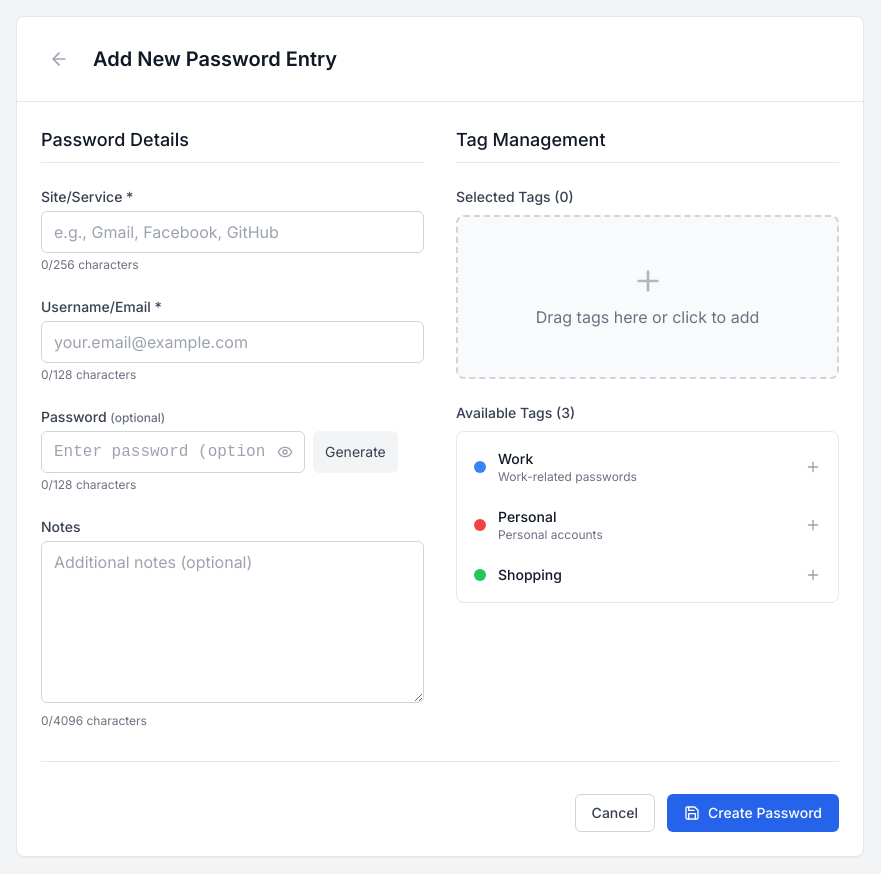
PasswordEdit Component › should generate password when generate button is clicked
Expected: the password field labelled "Password (optional)" is empty, [41,431,305,473]
Click the button "Generate". click: point(355, 452)
box: [313,431,398,473]
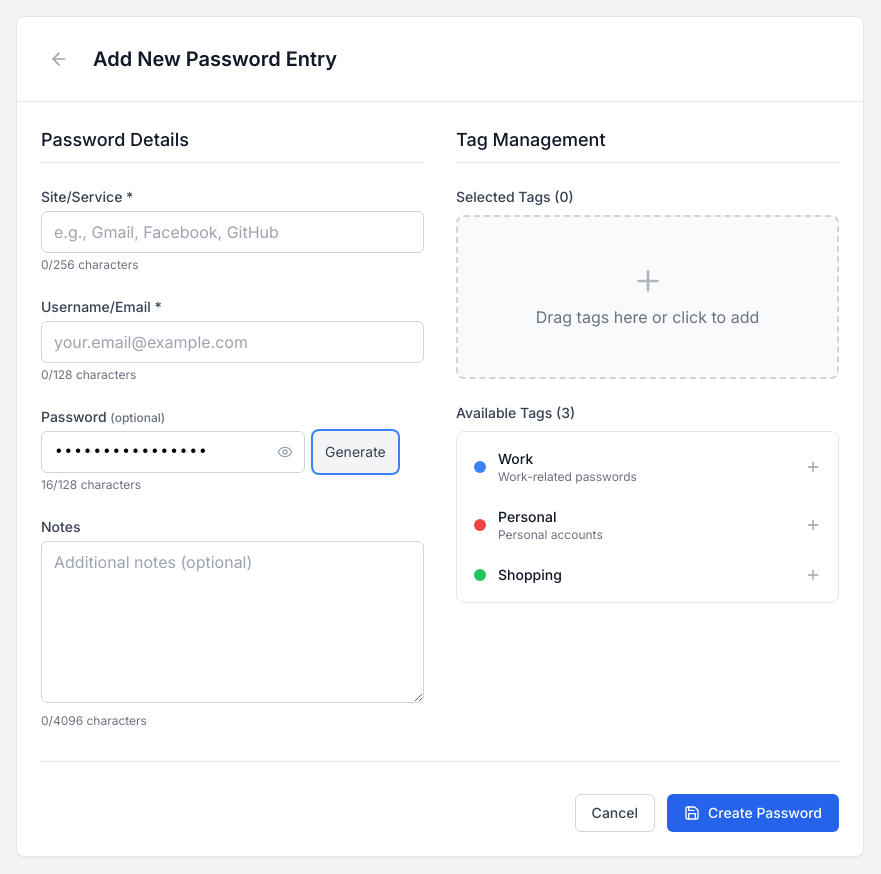
Now the password field labelled "Password (optional)" is not empty, box [41,431,305,473]
